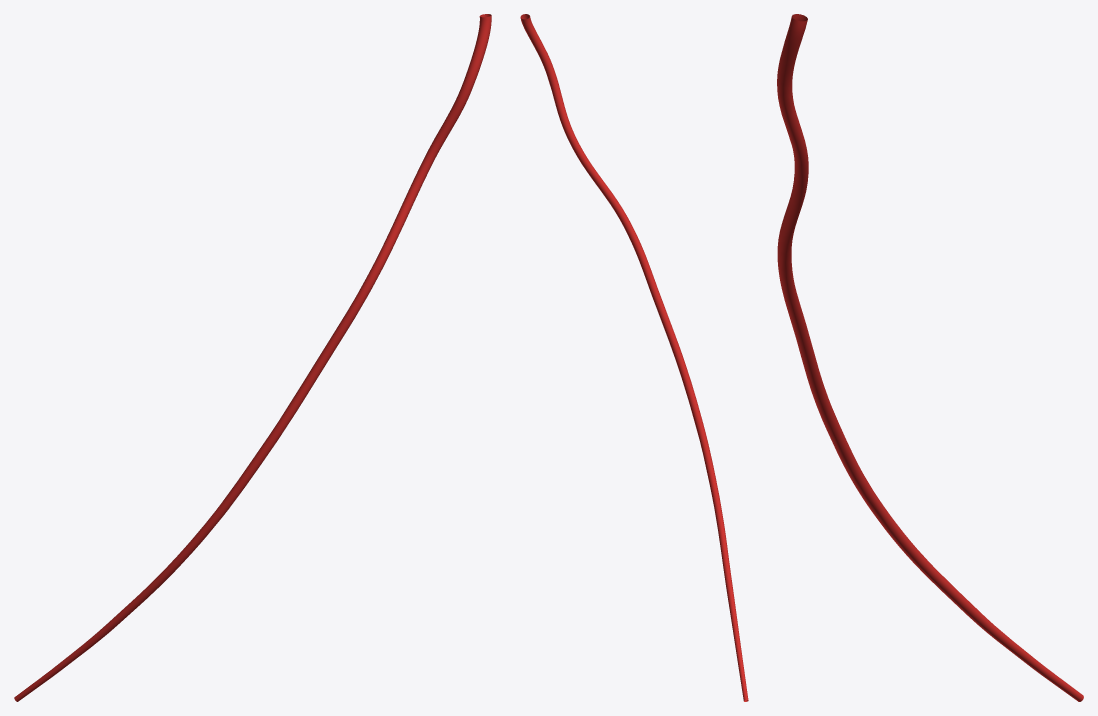
Rendered from circulatorio-musculophrenic-veins-r.glb.
3 views of the same model, side by side, from view 1: azimuth 30°, elevation 25°; view 2: azimuth 150°, elevation 25°; view 3: azimuth 270°, elevation 25° (orthographic). The views are drawn at different scales.
Parts seen in each view (by area): view 1: Musculophrenic veins.r; view 2: Musculophrenic veins.r; view 3: Musculophrenic veins.r.
Boxes of the visible parts, left/top/right/bottom form: Musculophrenic veins.r: left=14, top=14, right=491, bottom=701; Musculophrenic veins.r: left=520, top=14, right=748, bottom=701; Musculophrenic veins.r: left=777, top=14, right=1083, bottom=701.
Size of the model in its own units: 0.0952 by 0.1621 by 0.0482.
